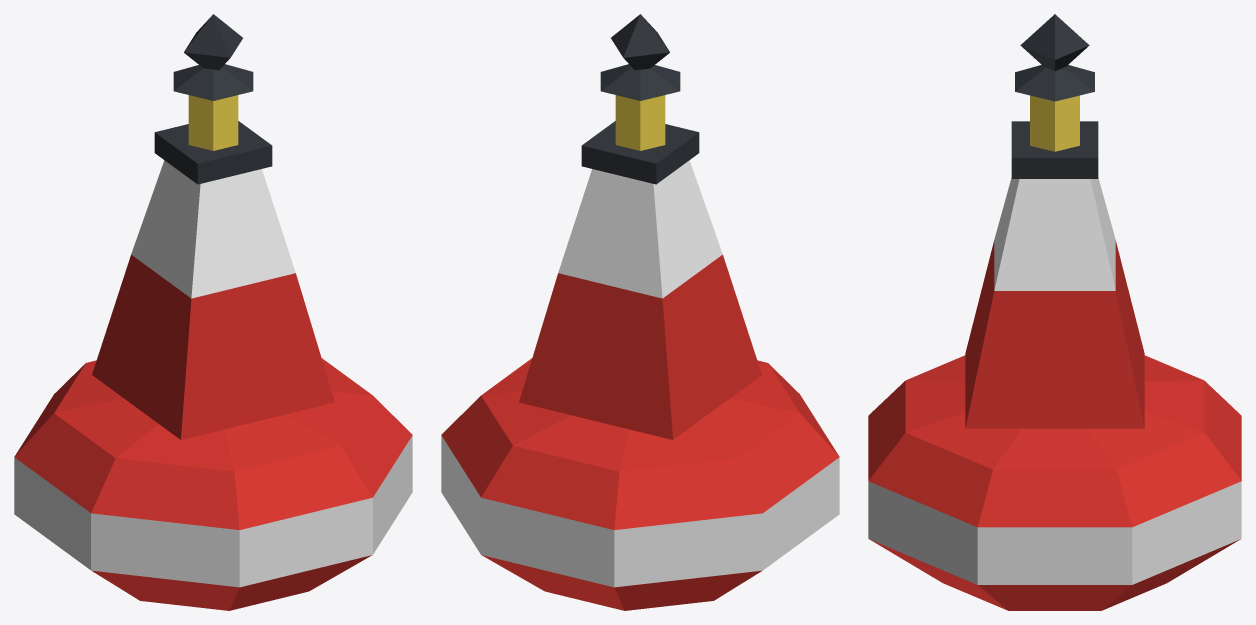
The model's file is buoy.glb.
3 renders of one model, left to right at view 1: azimuth 30°, elevation 25°; view 2: azimuth 150°, elevation 25°; view 3: azimuth 270°, elevation 25°, orthographic.
Parts seen in each view (by area): view 1: buoy; view 2: buoy; view 3: buoy.
Part boxes in pixels (<box>): buoy: <box>14,14,412,610</box>; buoy: <box>441,14,839,610</box>; buoy: <box>868,14,1241,610</box>.
Bounding box in the file's own units: 0.1293 × 0.21 × 0.1293.
